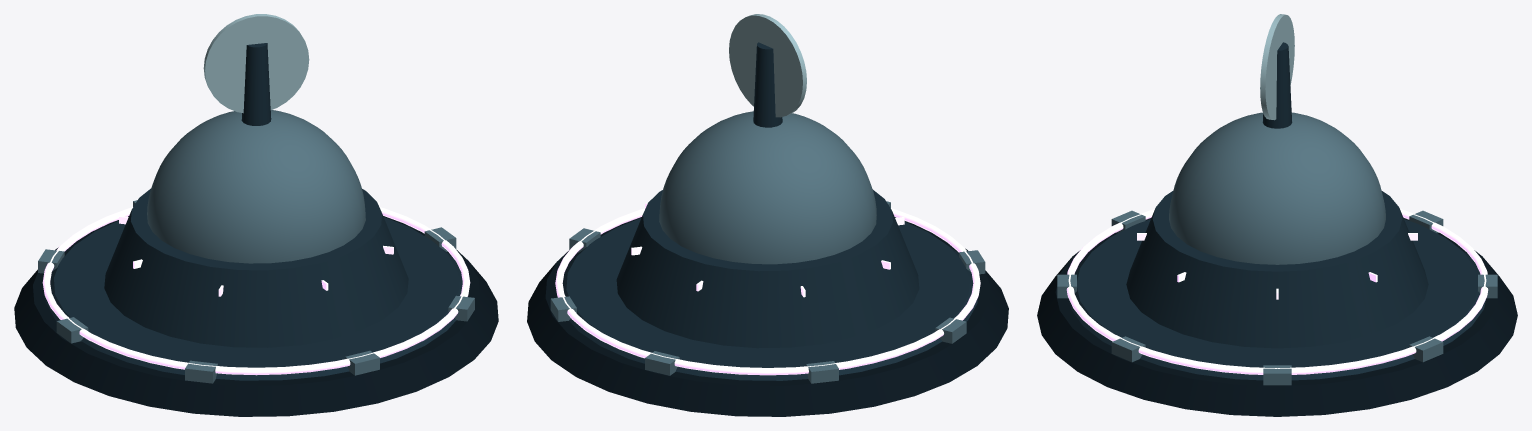
The model's file is researchLab.glb.
The picture shows the model from 3 angles, left to right: view 1: azimuth 30°, elevation 25°; view 2: azimuth 150°, elevation 25°; view 3: azimuth 270°, elevation 25°; orthographic projection.
Parts seen in each view (by area): view 1: laboratory-base, observatory-dome, armored-foundation, upper-deck, deep-space-dish, perimeter-light, sensor-spire, buttress-3, buttress-2, buttress-4, buttress-1; view 2: laboratory-base, observatory-dome, armored-foundation, upper-deck, perimeter-light, deep-space-dish, sensor-spire, buttress-5, buttress-6, buttress-4, buttress-7; view 3: laboratory-base, observatory-dome, armored-foundation, upper-deck, perimeter-light, deep-space-dish, sensor-spire, buttress-0, buttress-1, buttress-7.
Part boxes in pixels (bbox=[...]): laboratory-base: bbox=[104, 188, 408, 347]; observatory-dome: bbox=[147, 110, 365, 263]; armored-foundation: bbox=[14, 216, 498, 416]; upper-deck: bbox=[45, 217, 468, 380]; deep-space-dish: bbox=[203, 14, 309, 113]; perimeter-light: bbox=[42, 207, 470, 375]; sensor-spire: bbox=[241, 43, 271, 125]; buttress-3: bbox=[185, 360, 217, 383]; buttress-2: bbox=[345, 350, 379, 375]; buttress-4: bbox=[56, 317, 88, 343]; buttress-1: bbox=[448, 295, 474, 321]; laboratory-base: bbox=[616, 189, 919, 348]; observatory-dome: bbox=[659, 111, 876, 264]; armored-foundation: bbox=[527, 217, 1008, 416]; upper-deck: bbox=[557, 218, 977, 380]; perimeter-light: bbox=[555, 208, 980, 375]; deep-space-dish: bbox=[729, 14, 806, 117]; sensor-spire: bbox=[753, 42, 782, 127]; buttress-5: bbox=[806, 361, 838, 383]; buttress-6: bbox=[645, 351, 679, 375]; buttress-4: bbox=[935, 317, 966, 343]; buttress-7: bbox=[550, 296, 576, 321]; laboratory-base: bbox=[1126, 191, 1428, 348]; observatory-dome: bbox=[1169, 112, 1385, 264]; armored-foundation: bbox=[1037, 218, 1517, 416]; upper-deck: bbox=[1069, 219, 1485, 380]; perimeter-light: bbox=[1066, 209, 1488, 374]; deep-space-dish: bbox=[1260, 14, 1294, 120]; sensor-spire: bbox=[1262, 42, 1292, 128]; buttress-0: bbox=[1263, 365, 1291, 385]; buttress-1: bbox=[1111, 336, 1145, 362]; buttress-7: bbox=[1409, 336, 1443, 362].
Bounding box in the file's own units: 10.4 × 7.07 × 10.4.
